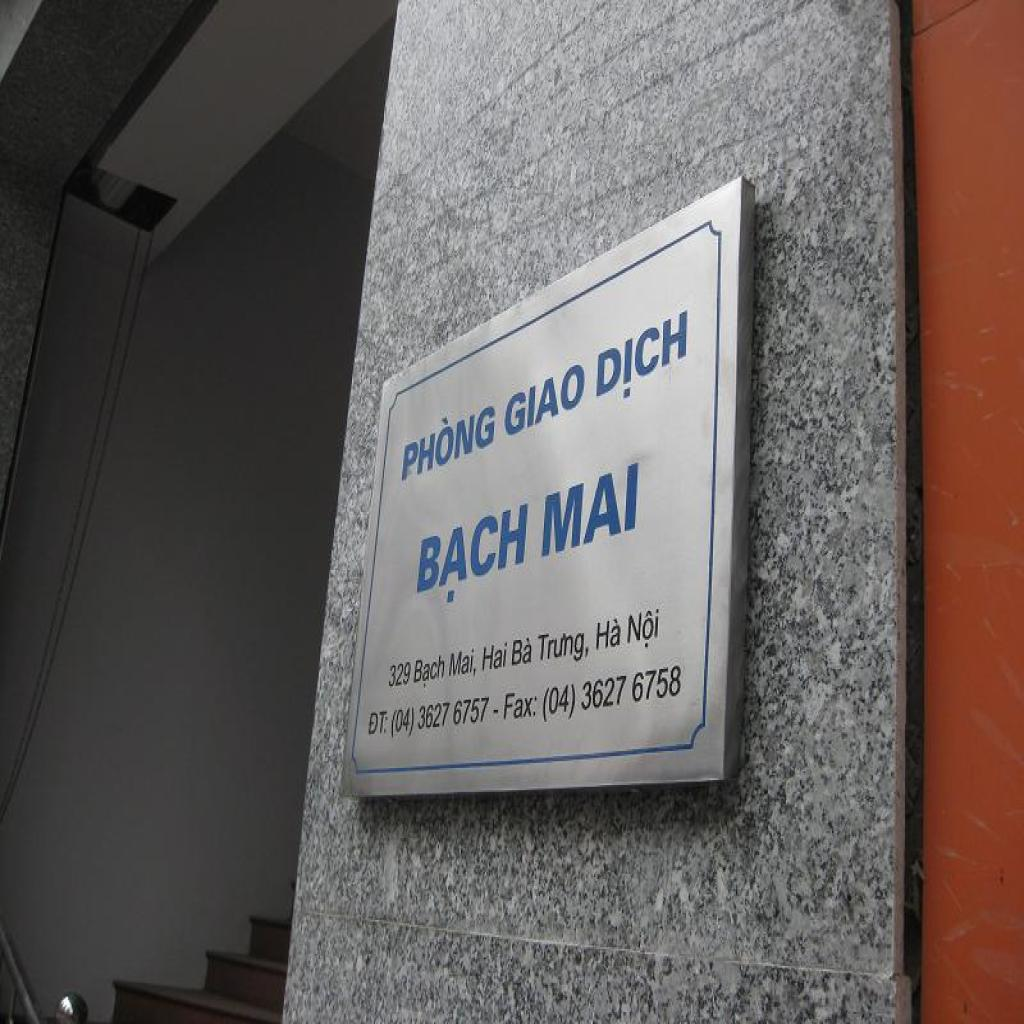text: (414, 498, 532, 614), (595, 300, 690, 415), (540, 456, 641, 562), (400, 391, 500, 488), (503, 353, 588, 444), (389, 693, 492, 742), (535, 621, 591, 671), (625, 602, 663, 654), (500, 686, 542, 729), (411, 650, 448, 695), (594, 611, 625, 657), (448, 645, 479, 683), (385, 657, 415, 693), (482, 638, 510, 676), (509, 635, 535, 671), (367, 705, 393, 741), (493, 706, 502, 716)
